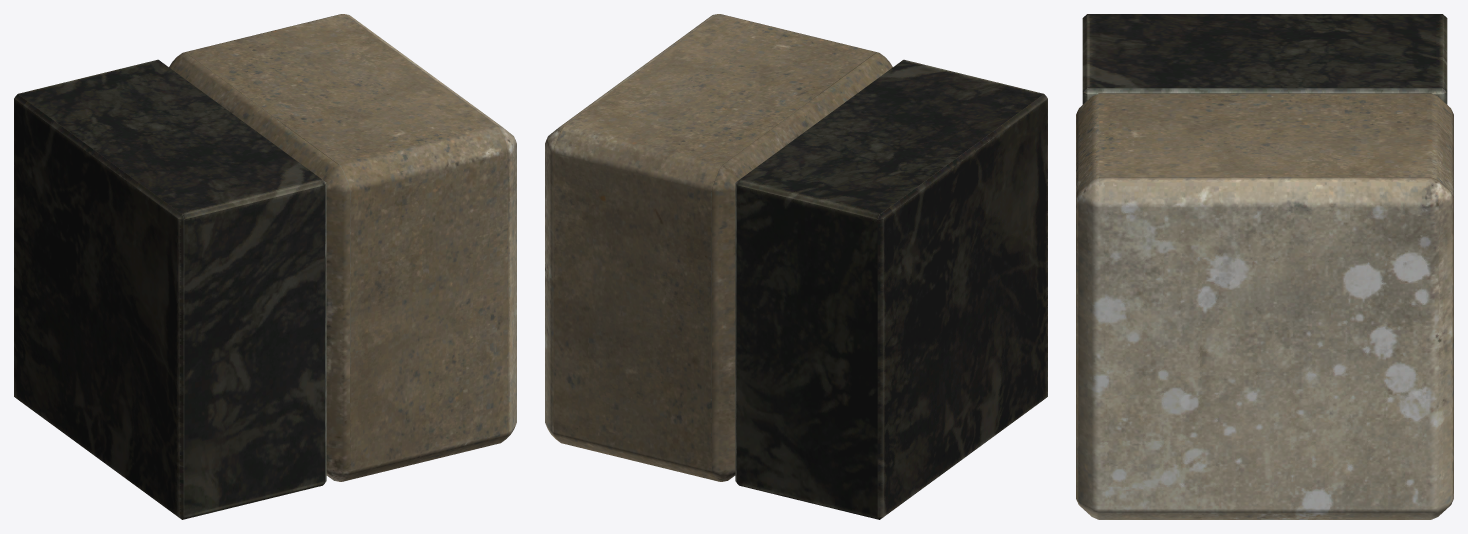
File: cP_CementPillar01_VerySmall.dae
The picture shows the model from 3 angles, left to right: view 1: azimuth 30°, elevation 25°; view 2: azimuth 150°, elevation 25°; view 3: azimuth 270°, elevation 25°; orthographic projection. The views are drawn at different scales.
Visible parts, largest first — view 1: cP_CementPillar01_VerySmall.001; view 2: cP_CementPillar01_VerySmall.001; view 3: cP_CementPillar01_VerySmall.001.
Part boxes in pixels (box(x1,y1,x2,y2)): cP_CementPillar01_VerySmall.001: box(14, 14, 516, 519); cP_CementPillar01_VerySmall.001: box(545, 14, 1047, 519); cP_CementPillar01_VerySmall.001: box(1076, 14, 1453, 519).
Size of the model in its own units: 0.4416 by 0.3897 by 0.3897.
